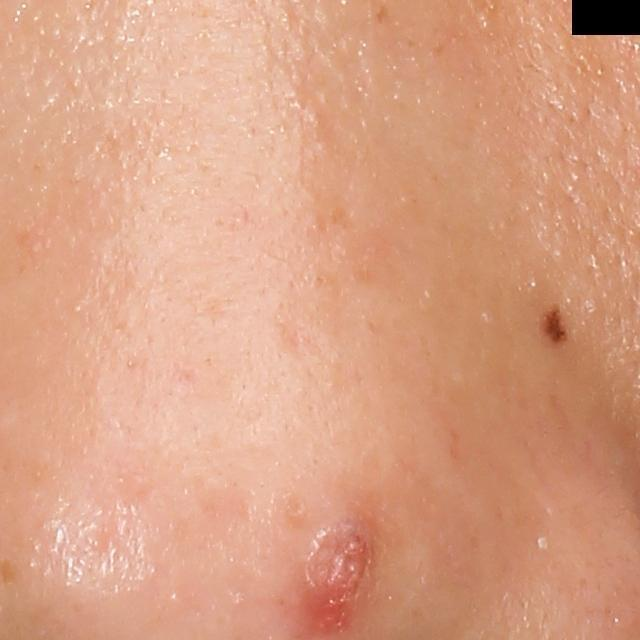nevus: (536, 300, 573, 350)
